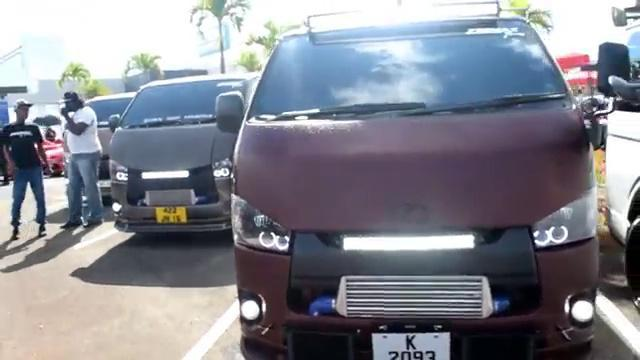Van: (228, 8, 608, 352)
